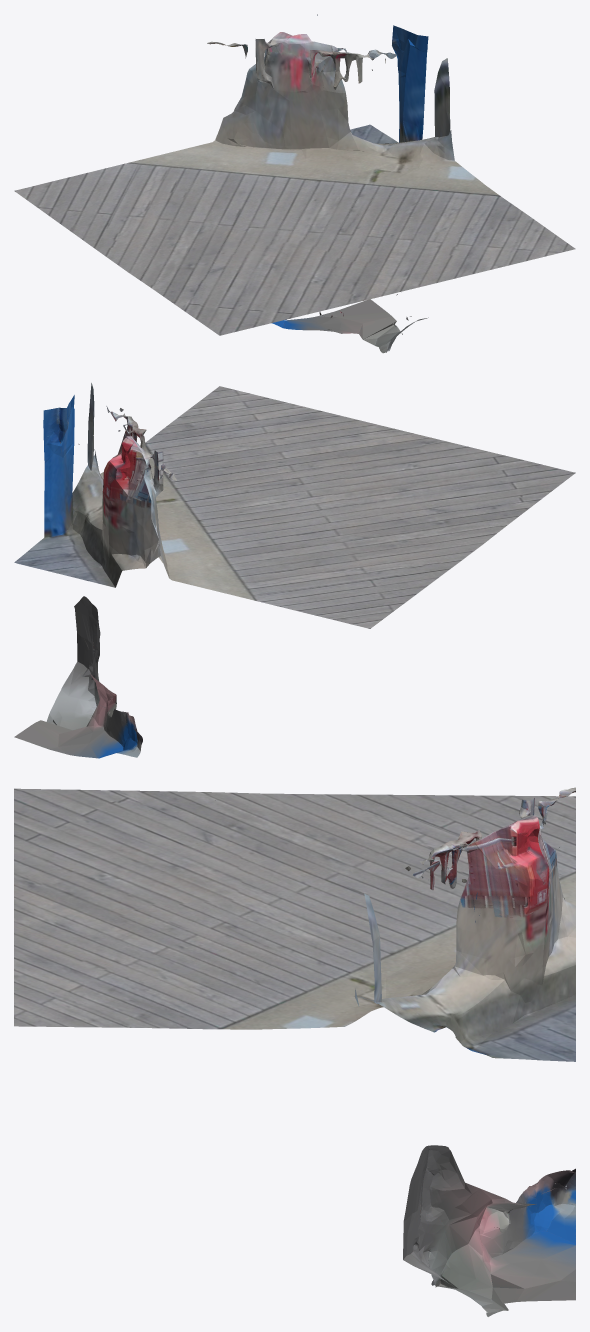
The picture shows the model from 3 angles, top to bottom: view 1: azimuth 30°, elevation 25°; view 2: azimuth 150°, elevation 25°; view 3: azimuth 270°, elevation 25°; orthographic projection. The views are drawn at different scales.
Bounding box in the file's own units: 4.18 × 3.56 × 4.18.
Materials: 3 (3 with a texture image).
